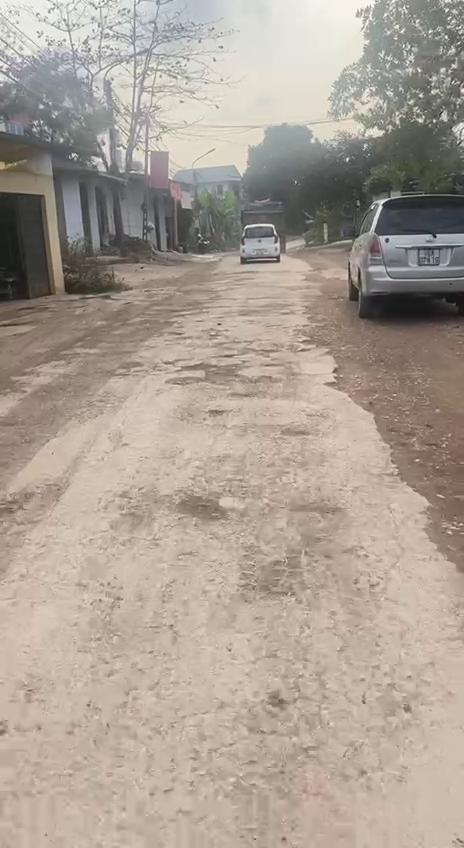pothole: (172, 358, 256, 386), (176, 490, 226, 526)
